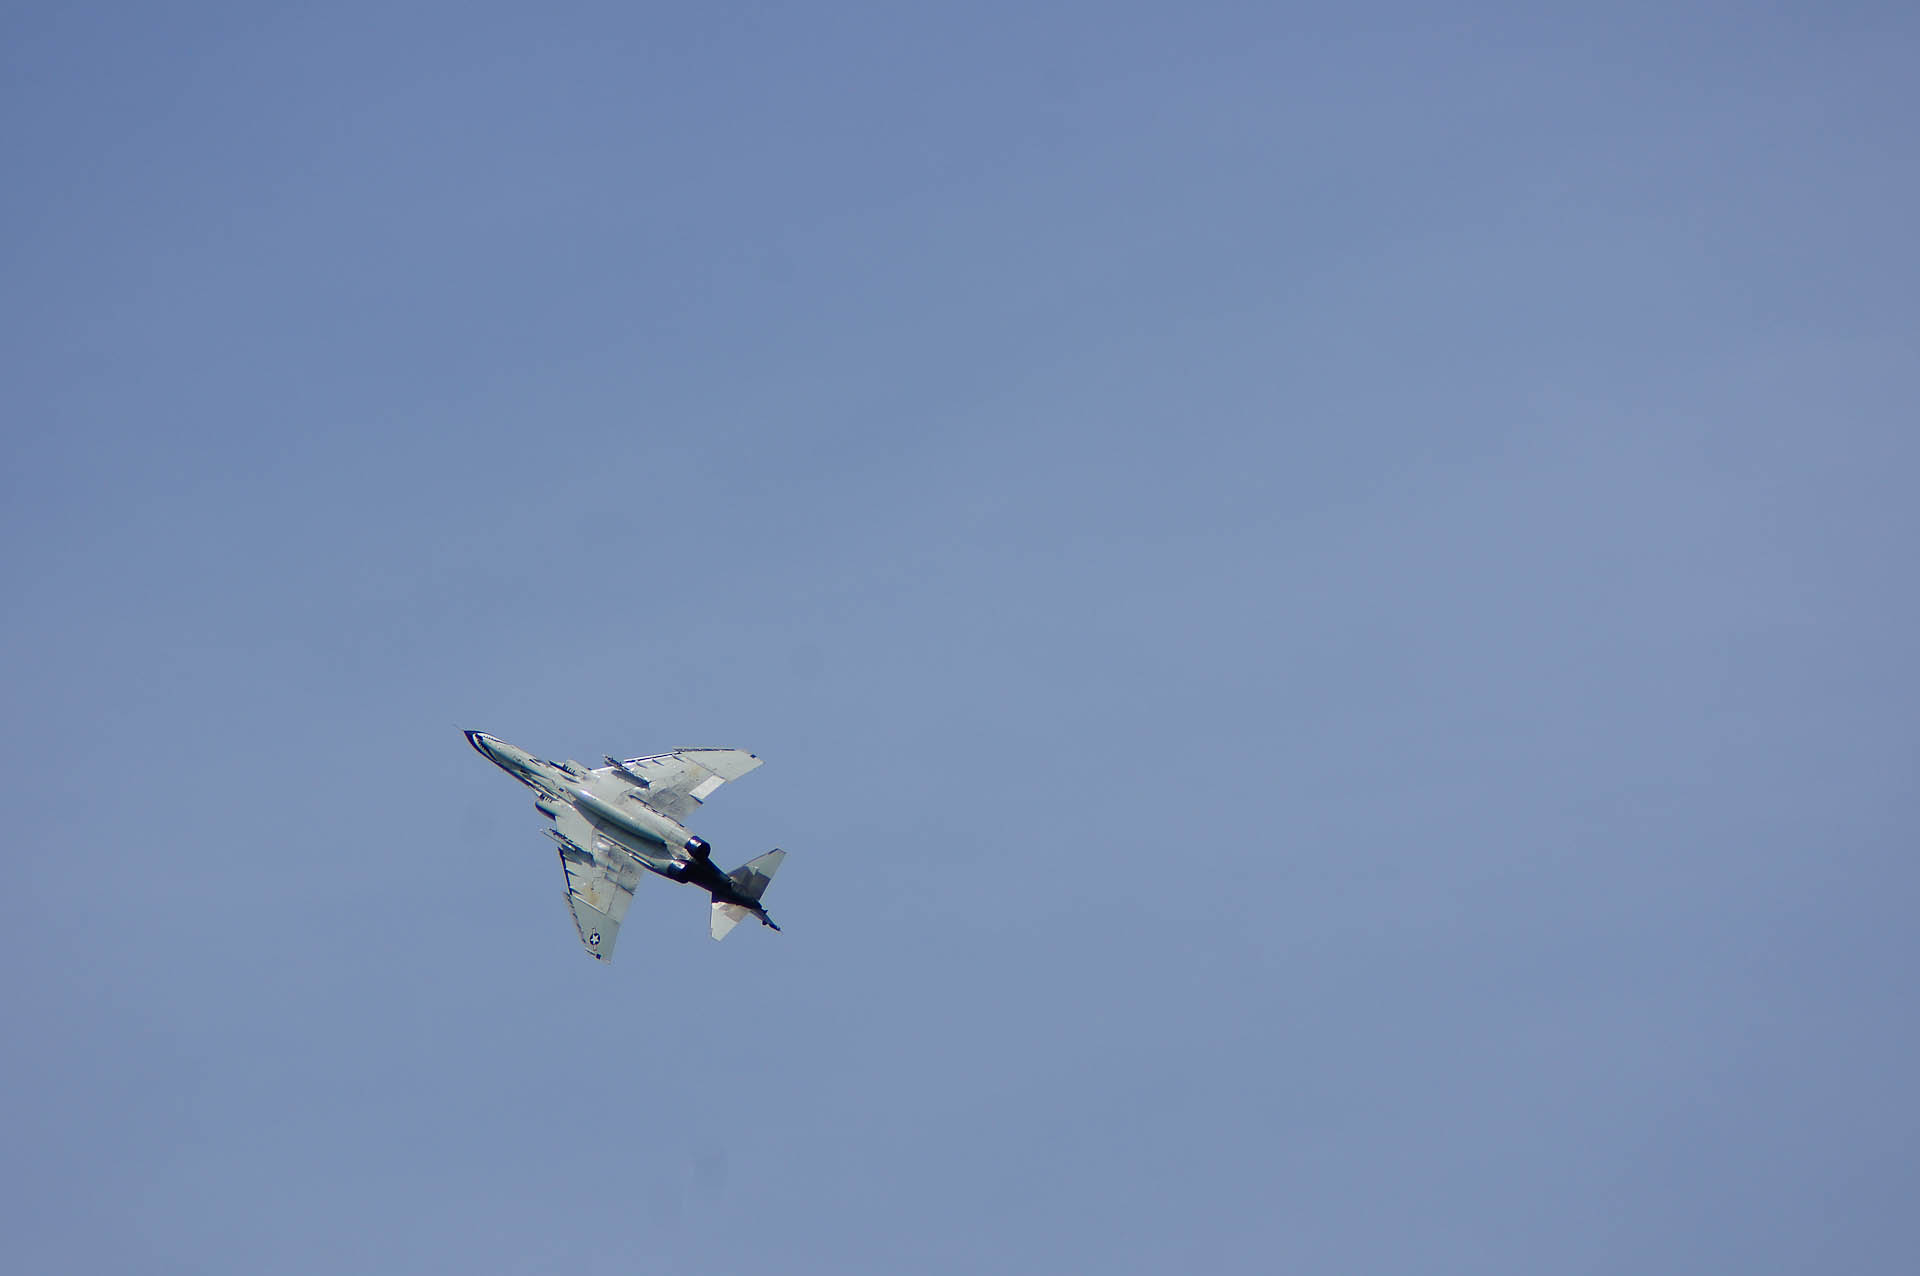F4: (452, 723, 788, 967)
